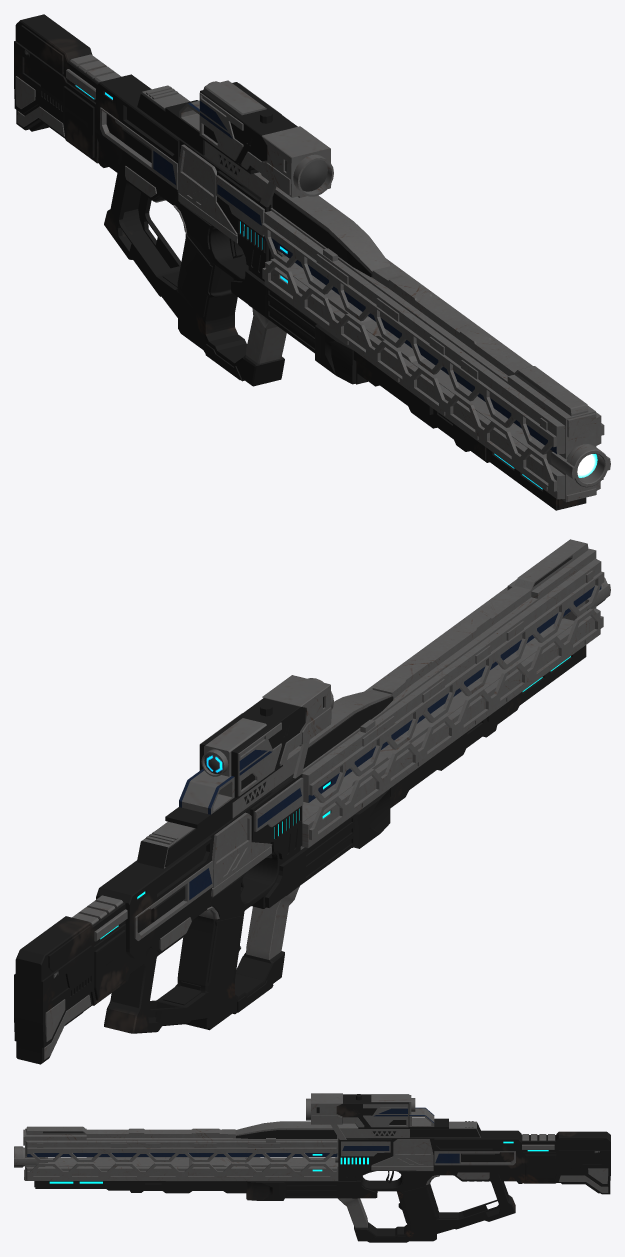
3 renders of one model, top to bottom at view 1: azimuth 30°, elevation 25°; view 2: azimuth 150°, elevation 25°; view 3: azimuth 270°, elevation 25°, orthographic. The views are drawn at different scales.
Visible parts, largest first — view 1: Body5; view 2: Body5; view 3: Body5.
Boxes of the visible parts, x1,y1,x2,y2 form: Body5: (14, 14, 610, 510); Body5: (14, 539, 610, 1064); Body5: (14, 1093, 610, 1242).
Size of the model in its own units: 0.0796 by 0.4076 by 1.54.
5 materials, 5 textured.
